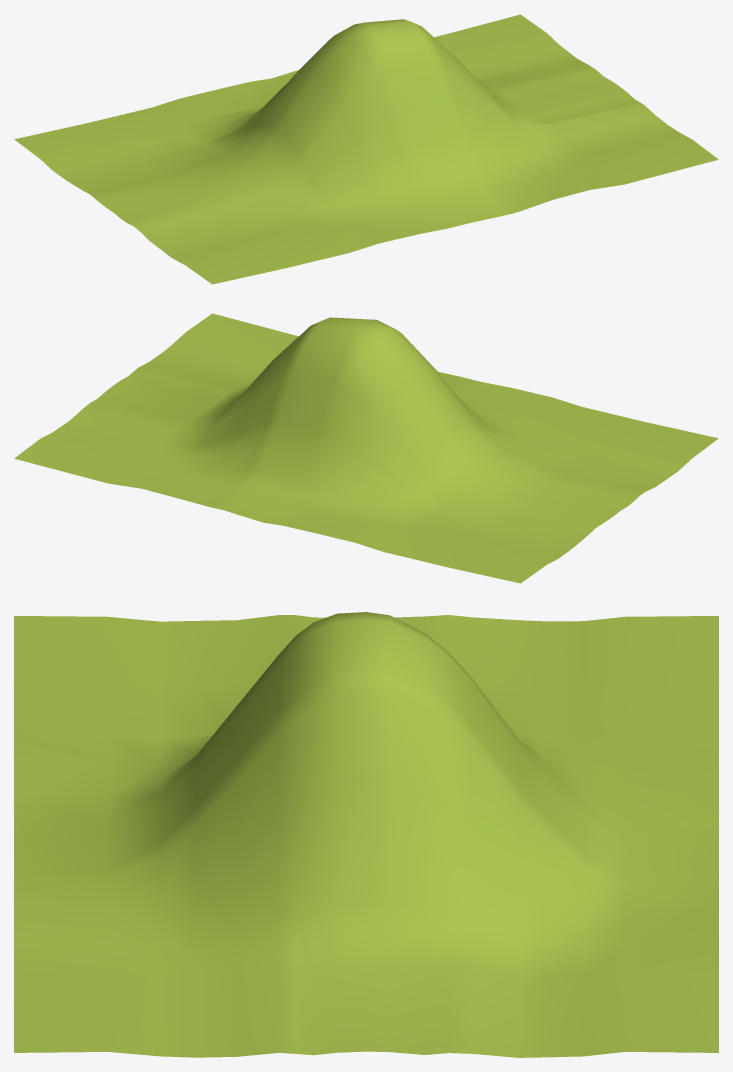
The model's file is collider_coline2.fbx.
3 renders of one model, top to bottom at view 1: azimuth 30°, elevation 25°; view 2: azimuth 150°, elevation 25°; view 3: azimuth 270°, elevation 25°, orthographic. The views are drawn at different scales.
Visible parts, largest first — view 1: collider_coline2; view 2: collider_coline2; view 3: collider_coline2.
Boxes of the visible parts, bbox=[...] form: collider_coline2: bbox=[14, 14, 718, 284]; collider_coline2: bbox=[14, 313, 718, 583]; collider_coline2: bbox=[14, 612, 718, 1057].
Size of the model in its own units: 2124 by 505 by 1440.
